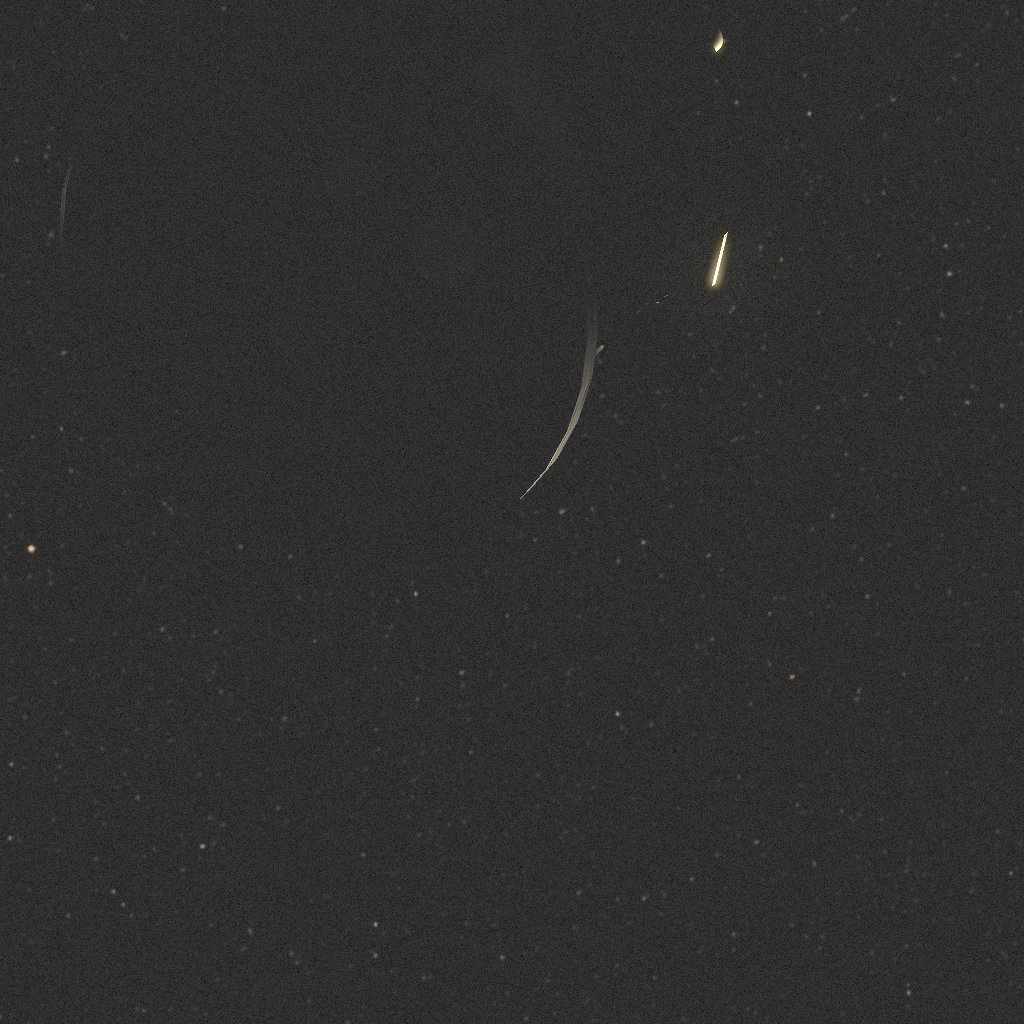proba_3_ocs: (59, 0, 740, 558)
